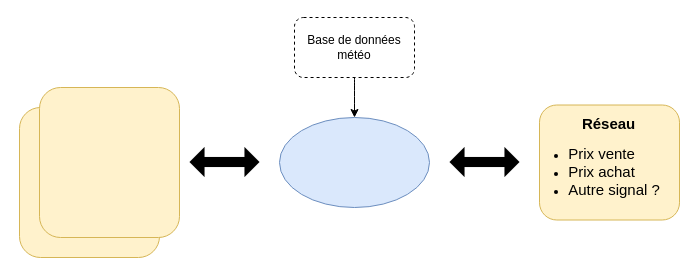
The diagram is 697 pixels wide and 275 high, and some of its shapes have lost their labels. Here are the shapes that lost their labels. From the top down, the centre of each, then its label:
[109,162]: Membre Profile de présence Equipements Habitudes d'usage
[354,162]: Agrégateur Optimize les échanges
